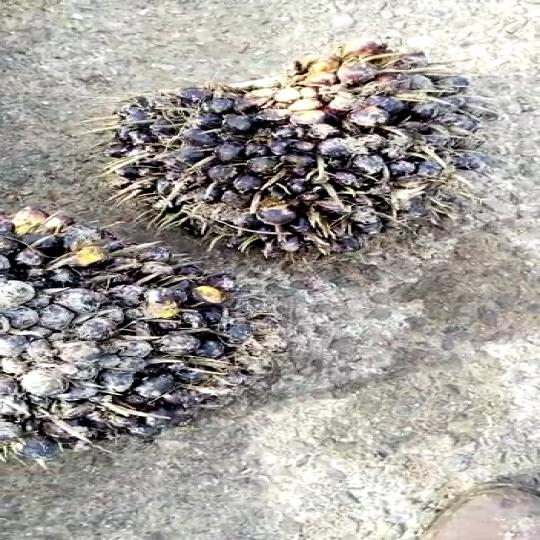mentah: (97, 41, 490, 267), (0, 185, 259, 443)
